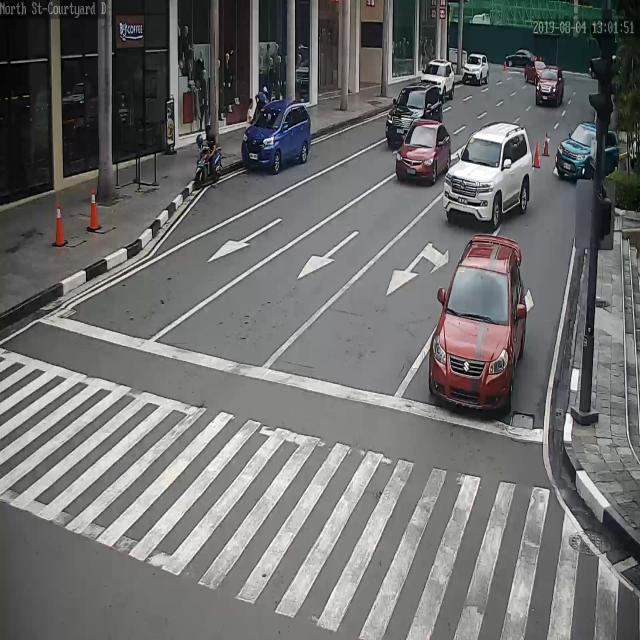car: (428, 233, 525, 417), (443, 120, 535, 229), (241, 98, 312, 175), (554, 125, 619, 184), (385, 85, 442, 151), (395, 121, 451, 187), (421, 59, 456, 100), (535, 67, 565, 106), (459, 53, 490, 86), (525, 58, 547, 84)
jeepney: (195, 121, 222, 189)
